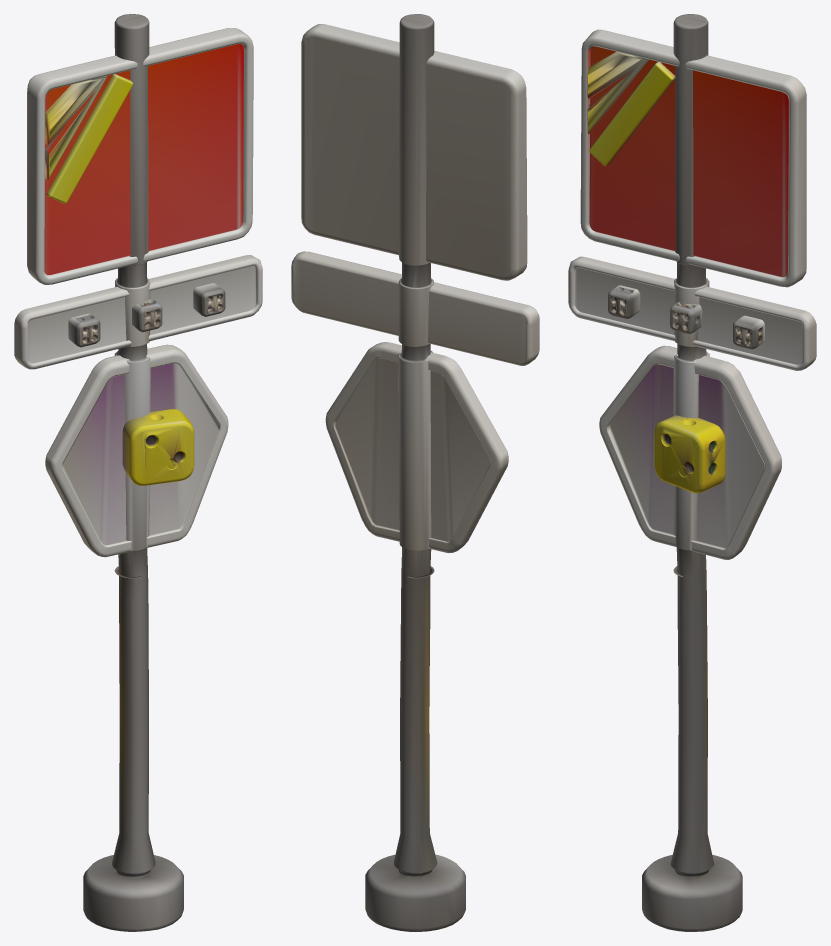
The model's file is sign.glb.
3 views of the same model, side by side, from view 1: azimuth 30°, elevation 25°; view 2: azimuth 150°, elevation 25°; view 3: azimuth 330°, elevation 25° (orthographic).
Visible parts, largest first — view 1: SM_sign; view 2: SM_sign; view 3: SM_sign.
Boxes of the visible parts, box(x1,y1,x2,y2) form: SM_sign: box(14, 14, 262, 931); SM_sign: box(291, 14, 539, 931); SM_sign: box(568, 14, 816, 931).
Size of the model in its own units: 0.2838 by 1 by 0.1031.
